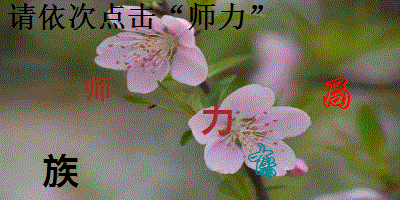result: (185, 1, 245, 32)
text: (40, 150, 81, 190), (247, 140, 281, 182), (200, 101, 236, 138), (319, 75, 353, 111), (82, 73, 112, 104)
